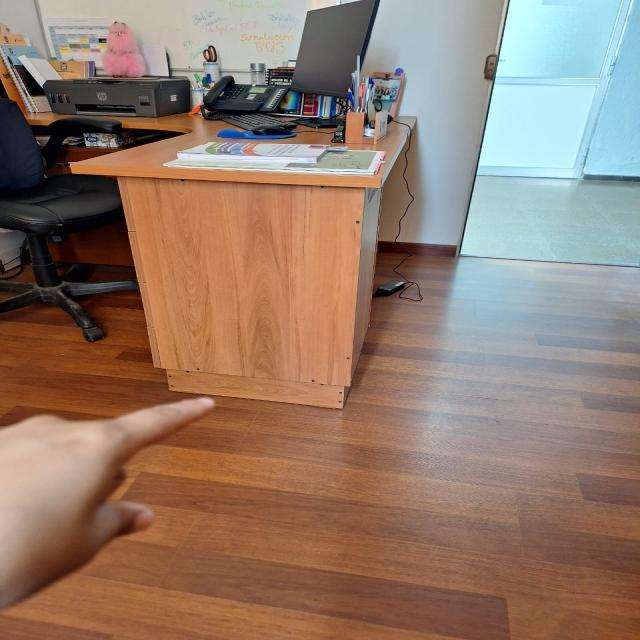S: (0, 386, 243, 612)
